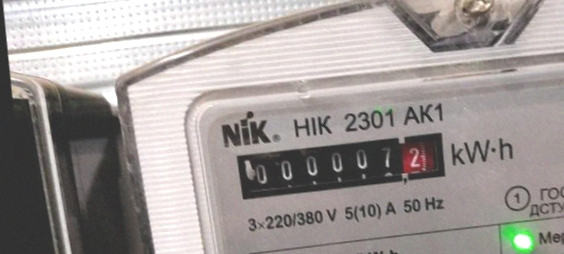0: (253, 160, 269, 185), (304, 153, 320, 177), (329, 149, 345, 173), (354, 146, 369, 170), (279, 157, 294, 180)
2: (407, 144, 422, 168)
7: (380, 143, 394, 168)
screen: (225, 120, 457, 208)
